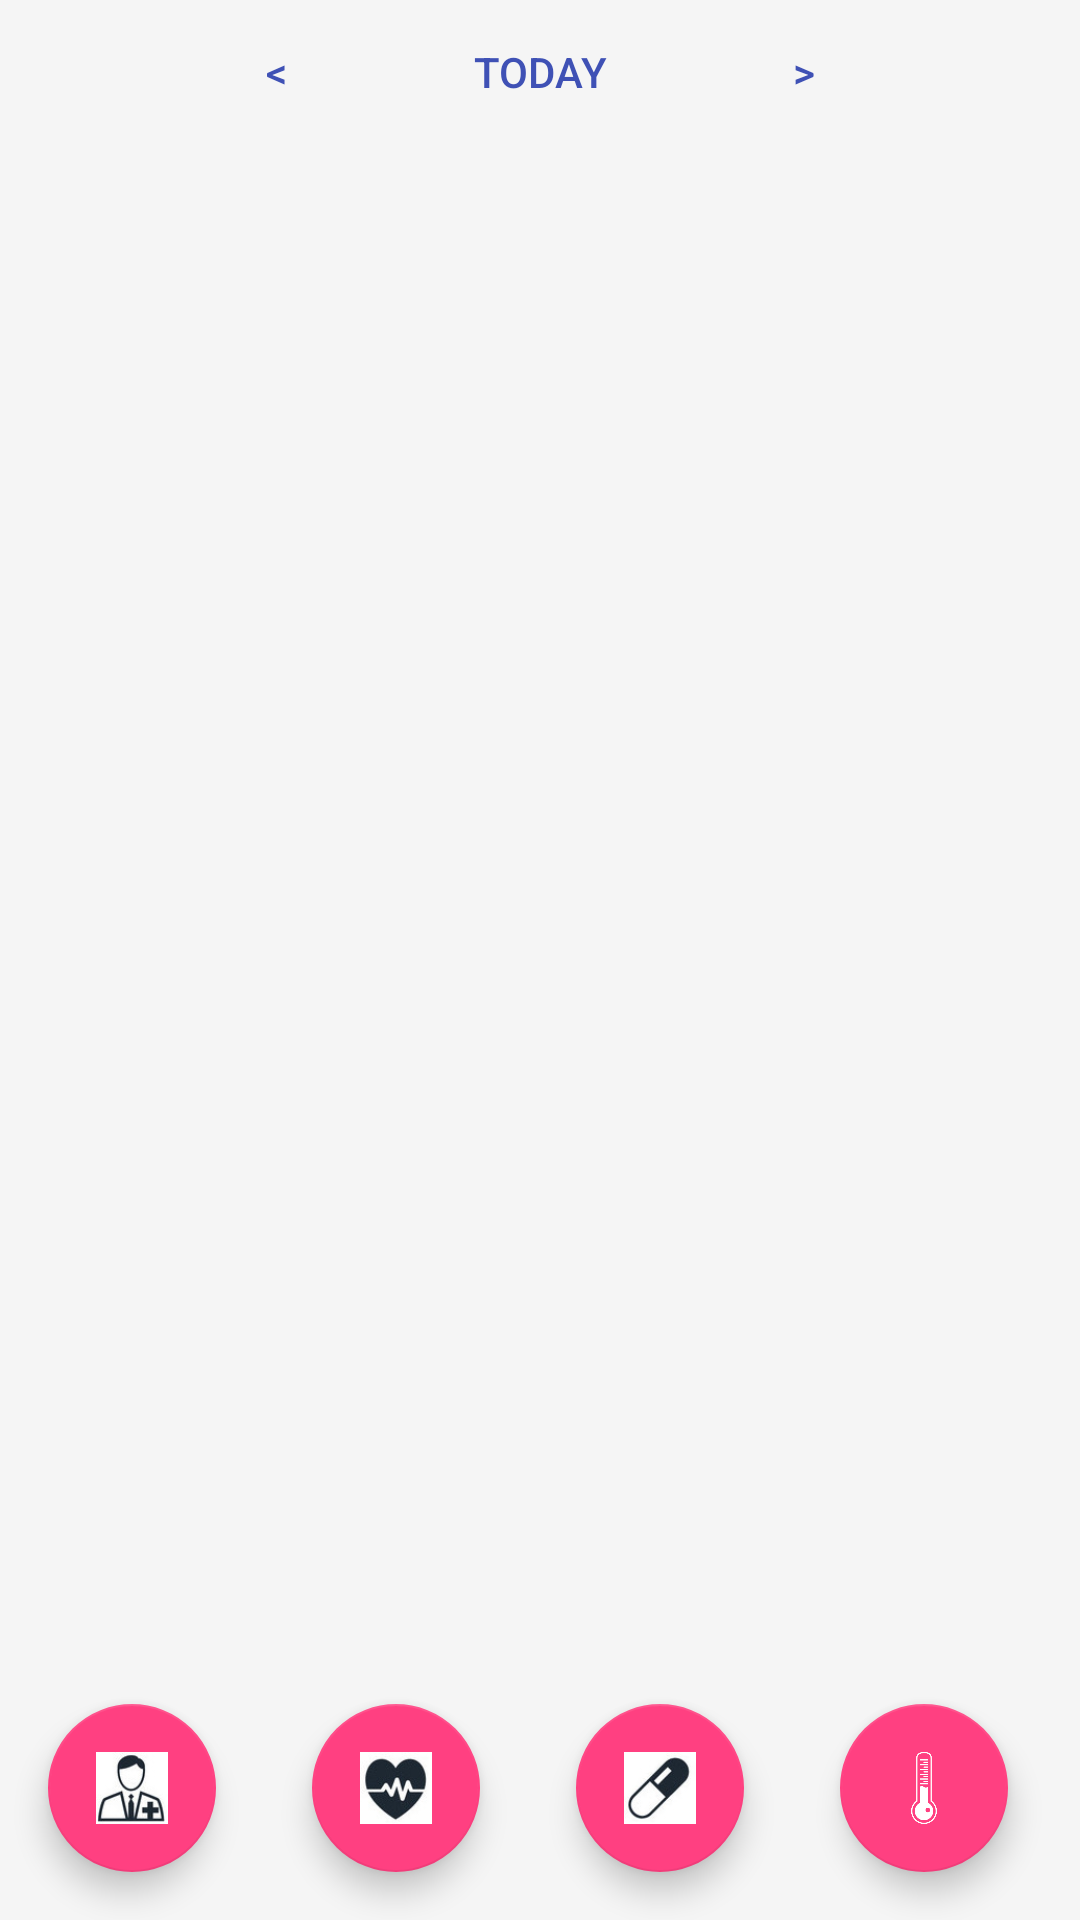

Where to tap for icons on this 1080 × 1920 app screen, as (x=x, y=y):
doctor: (x=132, y=1788)
heart beat: (x=396, y=1788)
pills: (x=660, y=1788)
temperature: (x=924, y=1788)
